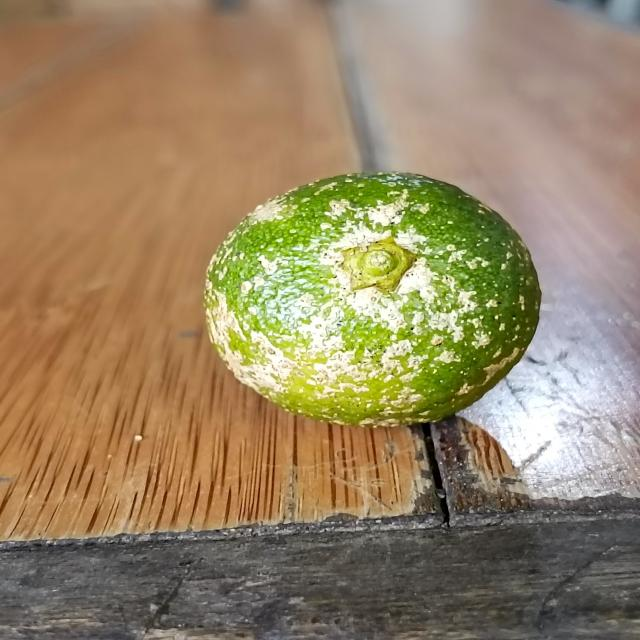scab: (192, 166, 549, 433)
